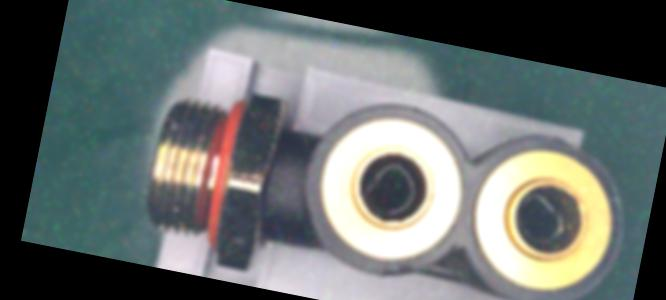bump: (554, 138, 601, 161), (380, 257, 424, 281)
joint line: (264, 175, 303, 191)
off-centered: (354, 158, 427, 222), (508, 191, 572, 250)
white mark: (276, 163, 295, 180)
